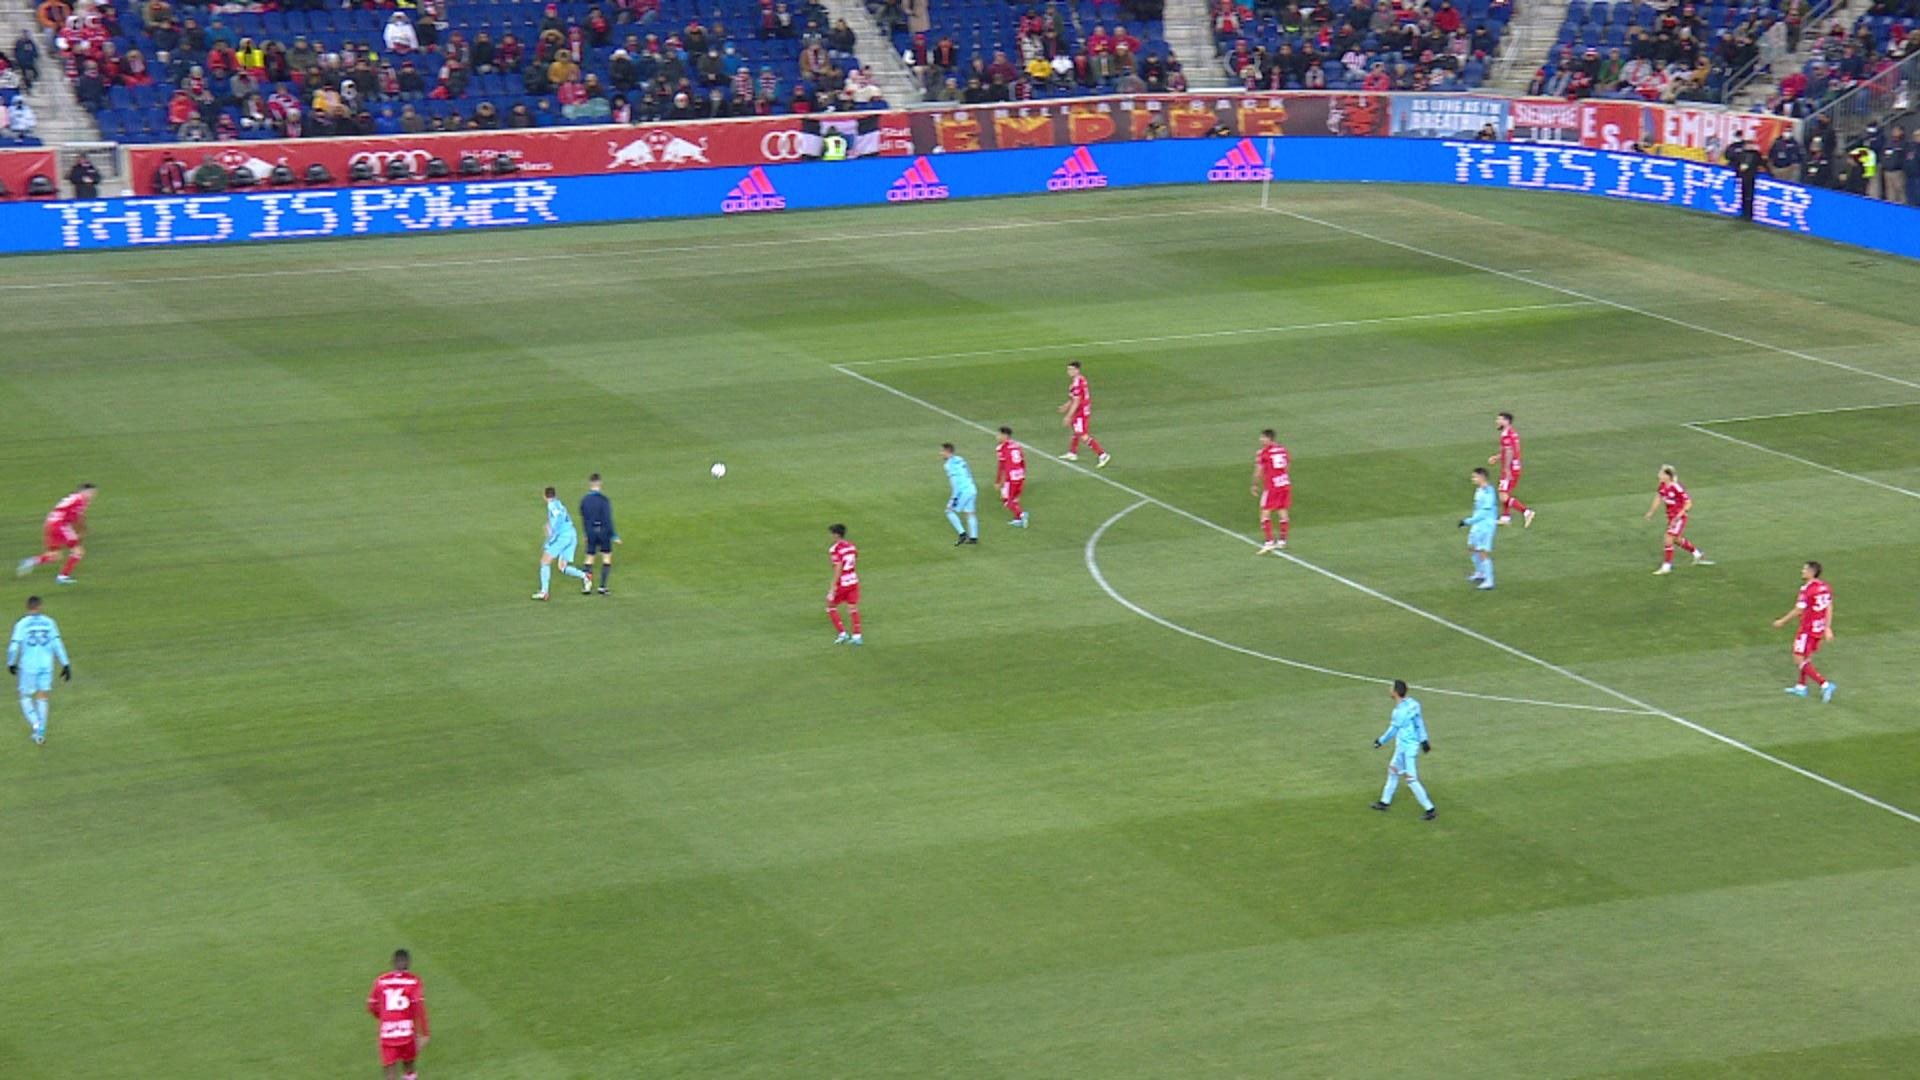football: (711, 462, 728, 479)
